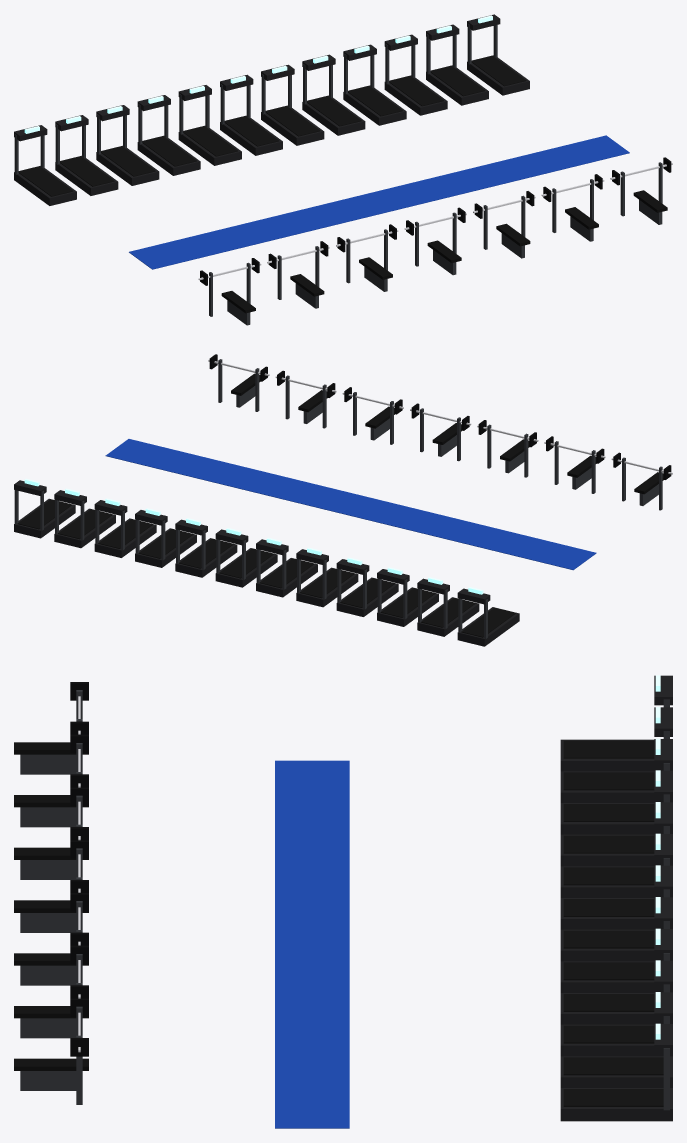
Rendered from i_power_gym.gltf.
The picture shows the model from 3 angles, top to bottom: view 1: azimuth 30°, elevation 25°; view 2: azimuth 150°, elevation 25°; view 3: azimuth 270°, elevation 25°; orthographic projection. The views are drawn at different scales.
Visible parts, largest first — view 1: I_power_gym; view 2: I_power_gym; view 3: I_power_gym.
Part boxes in pixels (box(x1,y1,x2,y2)): I_power_gym: box(14, 14, 672, 325); I_power_gym: box(14, 354, 672, 646); I_power_gym: box(14, 675, 672, 1128).
Bounding box in the file's own units: 14.37 × 1.45 × 10.56.
